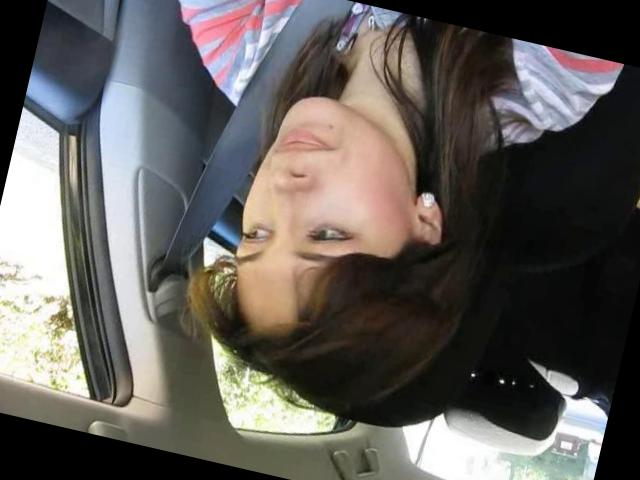eye_open: (299, 214, 358, 258), (236, 214, 275, 252)
face: (225, 82, 424, 302)
